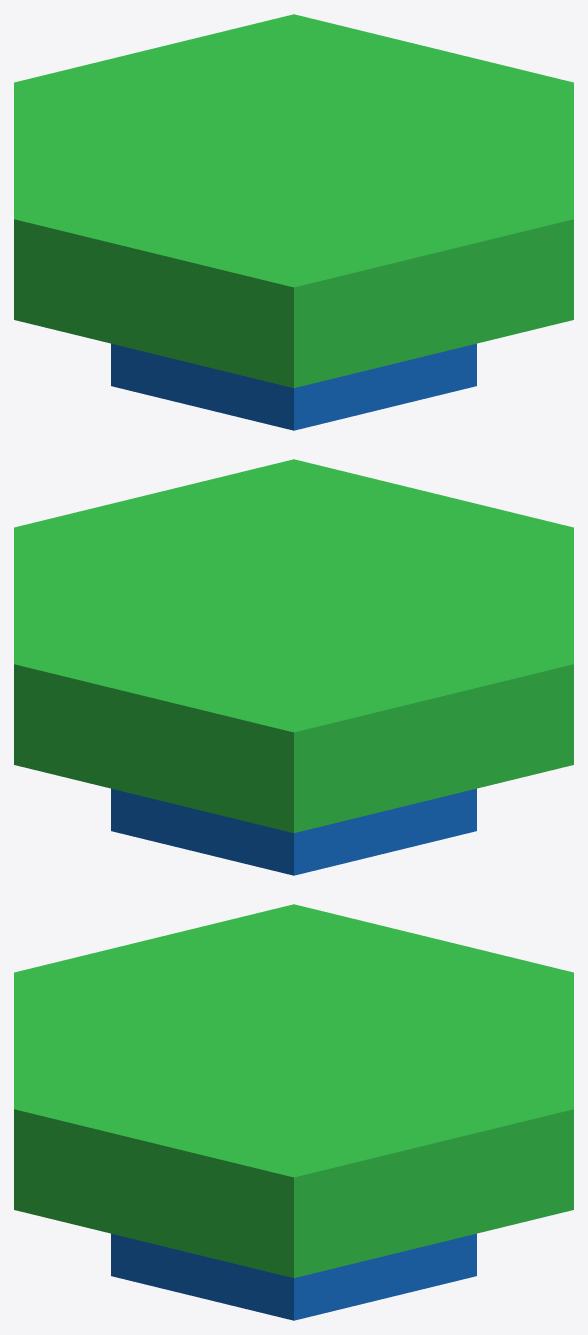
File: SM_flat_shelf_lightt.fbx
The picture shows the model from 3 angles, top to bottom: view 1: azimuth 30°, elevation 25°; view 2: azimuth 150°, elevation 25°; view 3: azimuth 270°, elevation 25°; orthographic projection.
Parts seen in each view (by area): view 1: flat_shelf_lightt; view 2: flat_shelf_lightt; view 3: flat_shelf_lightt.
Part boxes in pixels (x1,y1,x2,y2): flat_shelf_lightt: (14,14,573,430); flat_shelf_lightt: (14,459,573,875); flat_shelf_lightt: (14,904,573,1320).
Size of the model in its own units: 13.42 by 4.36 by 11.62.
